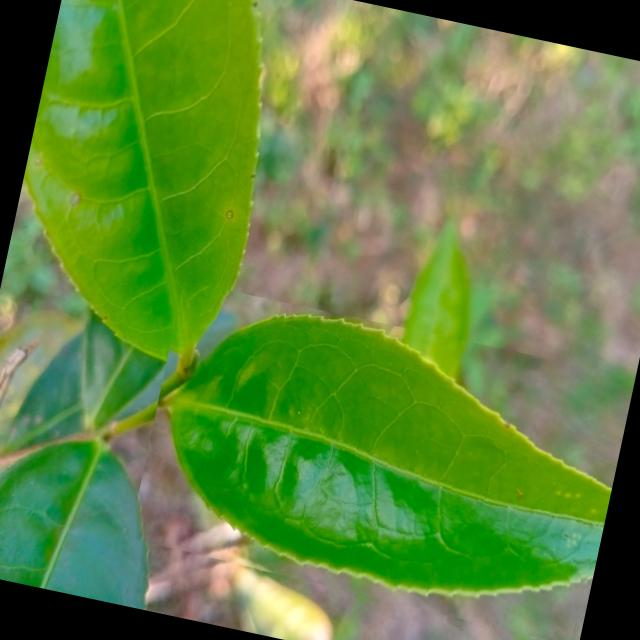Category D(7+ days, Not for Tea): (126, 280, 635, 640)
